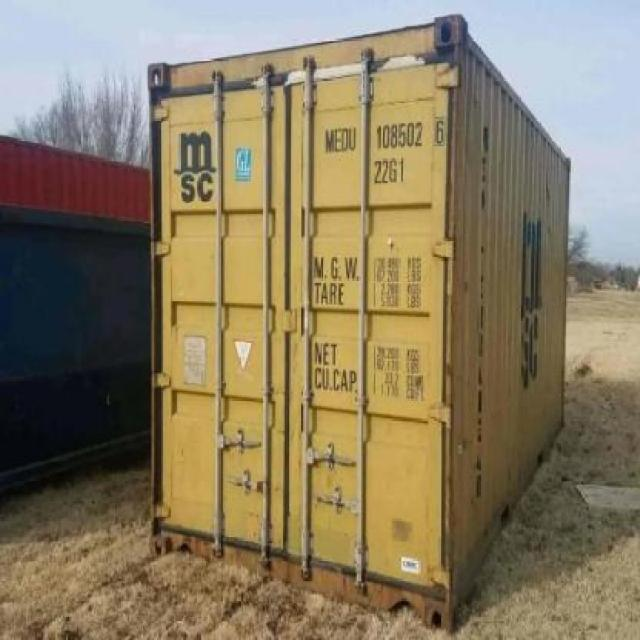ISO: (373, 157, 406, 184)
container_number: (322, 124, 444, 150)
